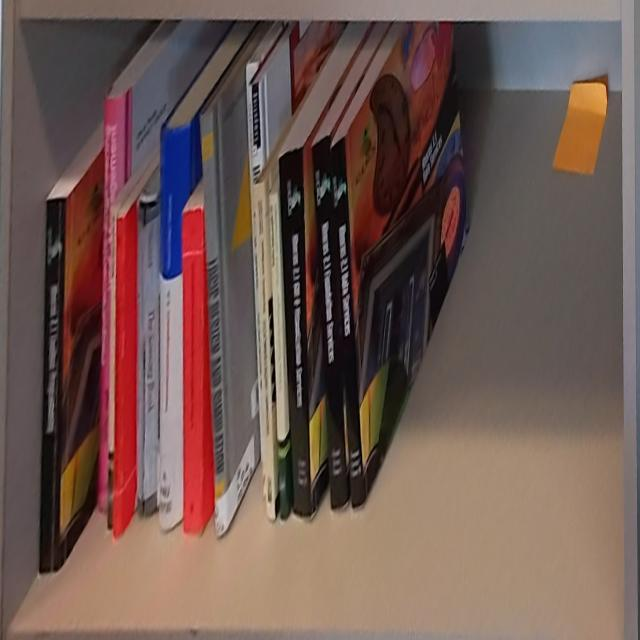Book Spine: (312, 134, 351, 514), (158, 124, 191, 533), (330, 139, 366, 511), (96, 89, 127, 515), (199, 114, 229, 539), (279, 147, 311, 523), (38, 197, 66, 577), (267, 190, 290, 520), (254, 184, 276, 520), (182, 211, 204, 537), (144, 205, 159, 522), (107, 207, 120, 530), (113, 218, 125, 538), (137, 207, 146, 523)
